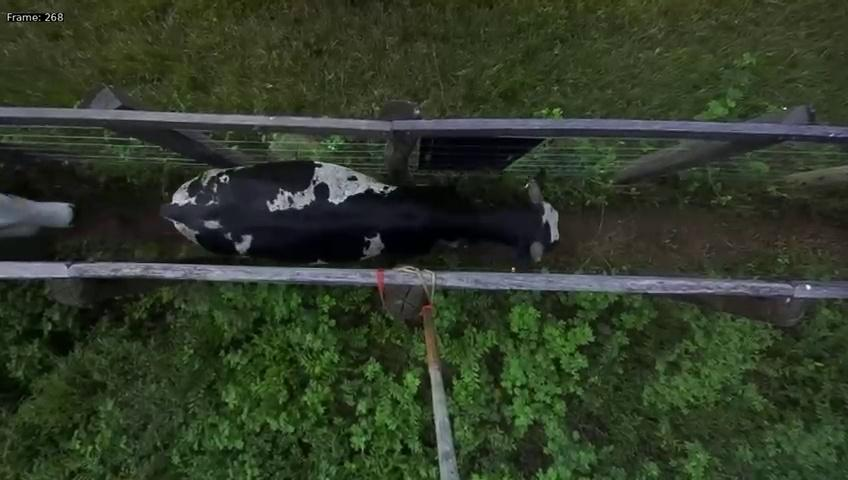cattle: (152, 150, 564, 282)
